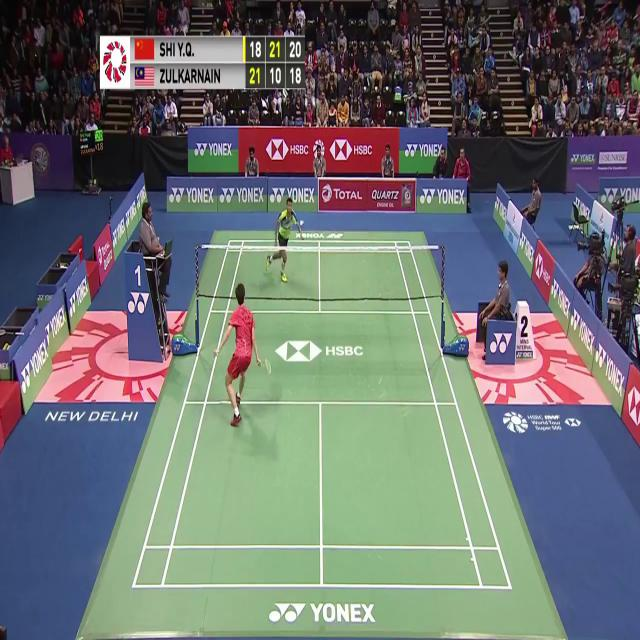Shuttlecock: (299, 216, 305, 227)
